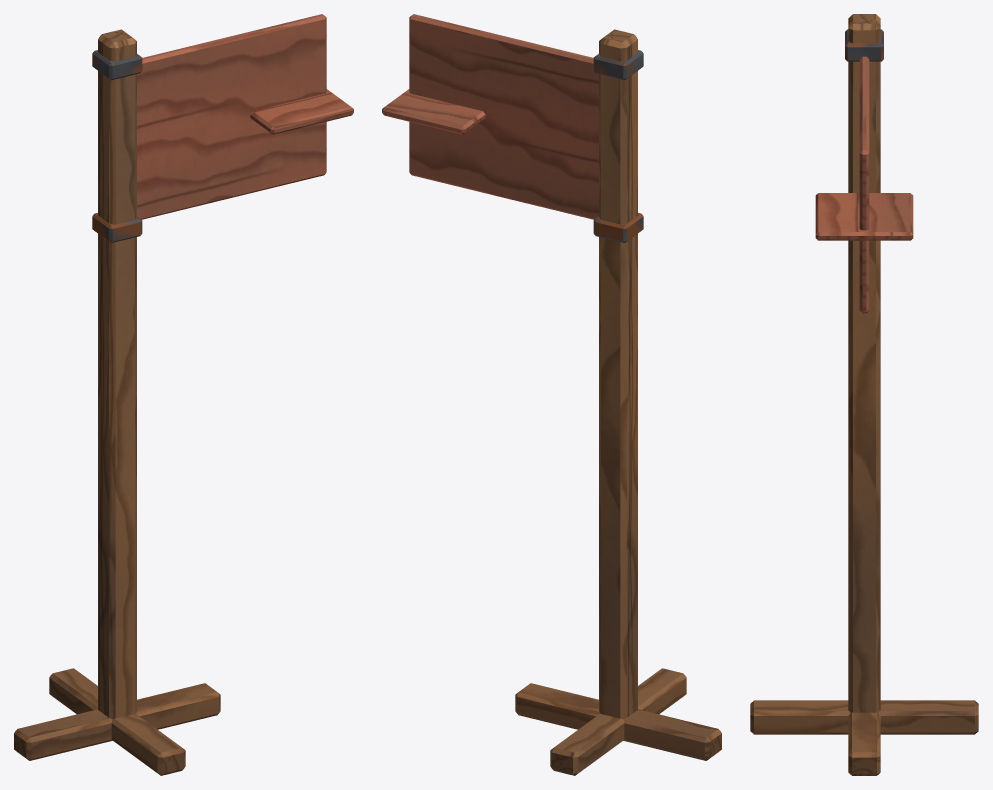
Rendered from savas_agili_bayragi.glb.
3 views of the same model, side by side, from view 1: azimuth 30°, elevation 25°; view 2: azimuth 150°, elevation 25°; view 3: azimuth 270°, elevation 25° (orthographic).
Parts seen in each view (by area): view 1: savas_agili_bayragi; view 2: savas_agili_bayragi; view 3: savas_agili_bayragi.
Part boxes in pixels (x1,y1,x2,y2): savas_agili_bayragi: (14,14,353,775); savas_agili_bayragi: (382,14,721,775); savas_agili_bayragi: (750,14,978,775).
Size of the model in its own units: 1.12 by 2.4 by 0.7.
Materials: 1 (1 with a texture image).
